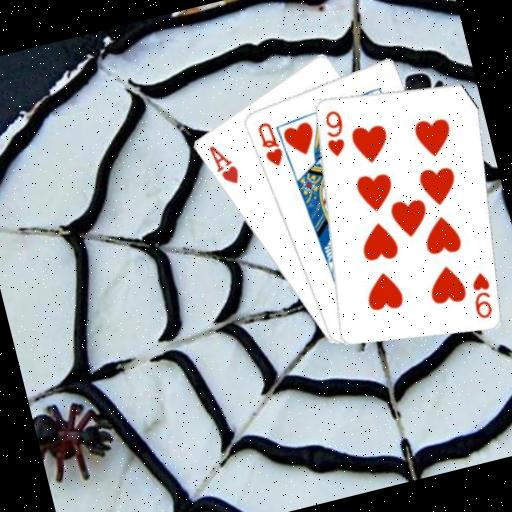9H: (316, 105, 352, 160), (464, 267, 499, 321)
AH: (204, 138, 242, 190)
QH: (253, 117, 287, 171)
